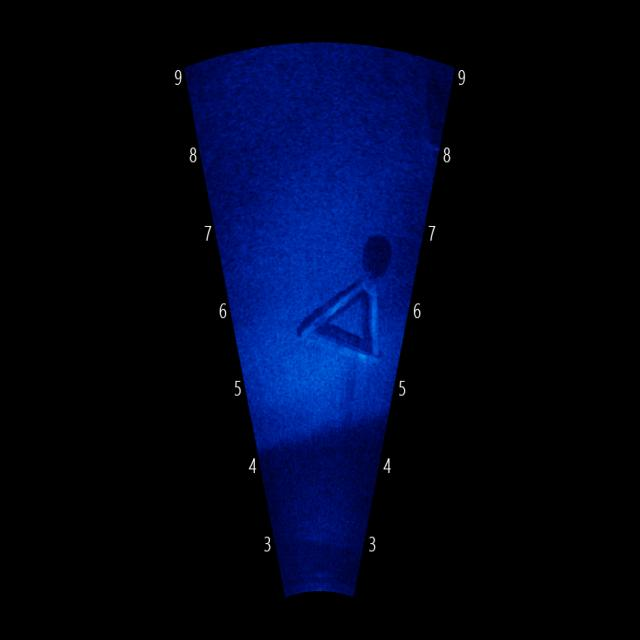triangle: (304, 256, 394, 376)
